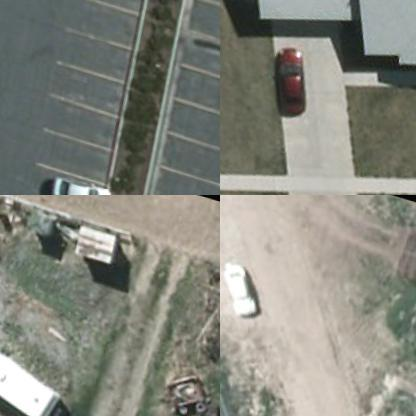camping car: (0, 329, 78, 415)
car: (263, 41, 319, 116), (220, 260, 268, 323), (47, 172, 115, 194)
